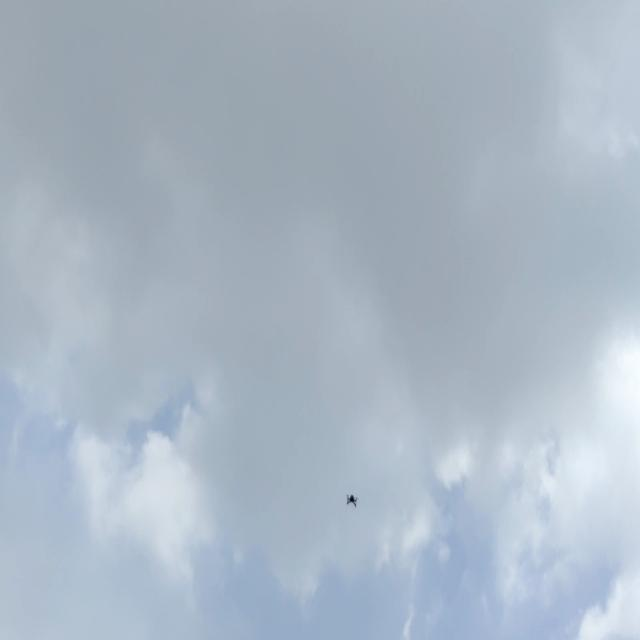drone: (341, 486, 364, 514)
